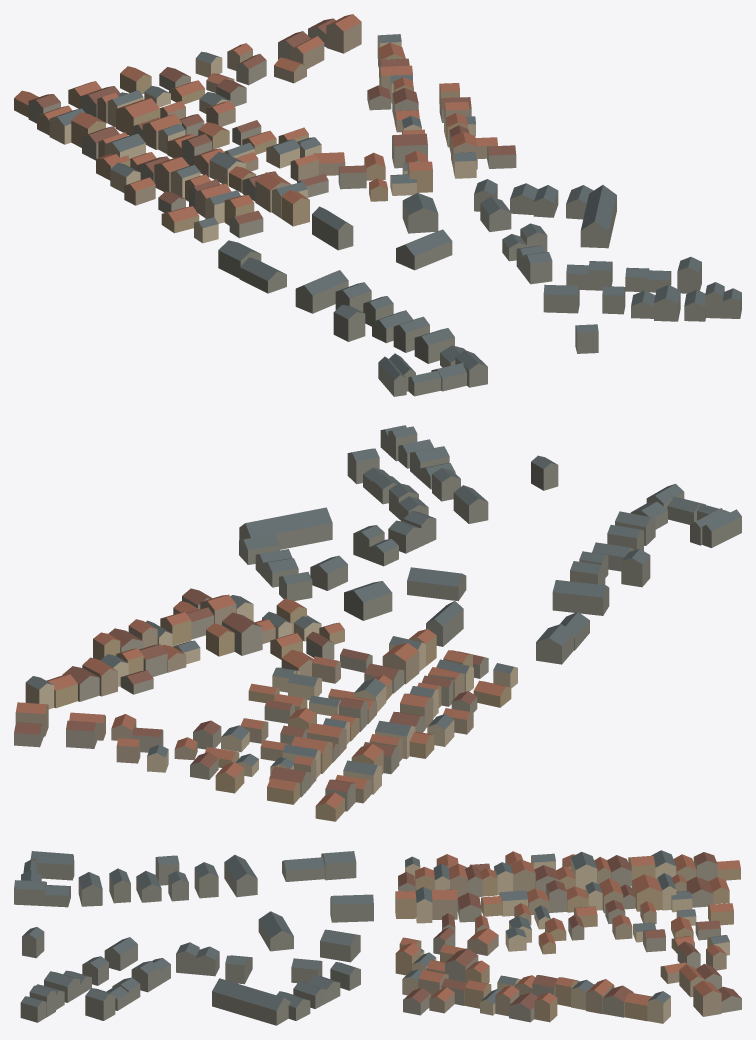
The picture shows the model from 3 angles, top to bottom: view 1: azimuth 30°, elevation 25°; view 2: azimuth 150°, elevation 25°; view 3: azimuth 270°, elevation 25°; orthographic projection. The views are drawn at different scales.
Parts seen in each view (by area): view 1: C_0_-3; view 2: C_0_-3; view 3: C_0_-3.
Part boxes in pixels (x1,y1,x2,y2): C_0_-3: [14, 14, 741, 396]; C_0_-3: [14, 425, 741, 821]; C_0_-3: [14, 850, 741, 1025].
Size of the model in its own units: 192 by 14.38 by 374.
